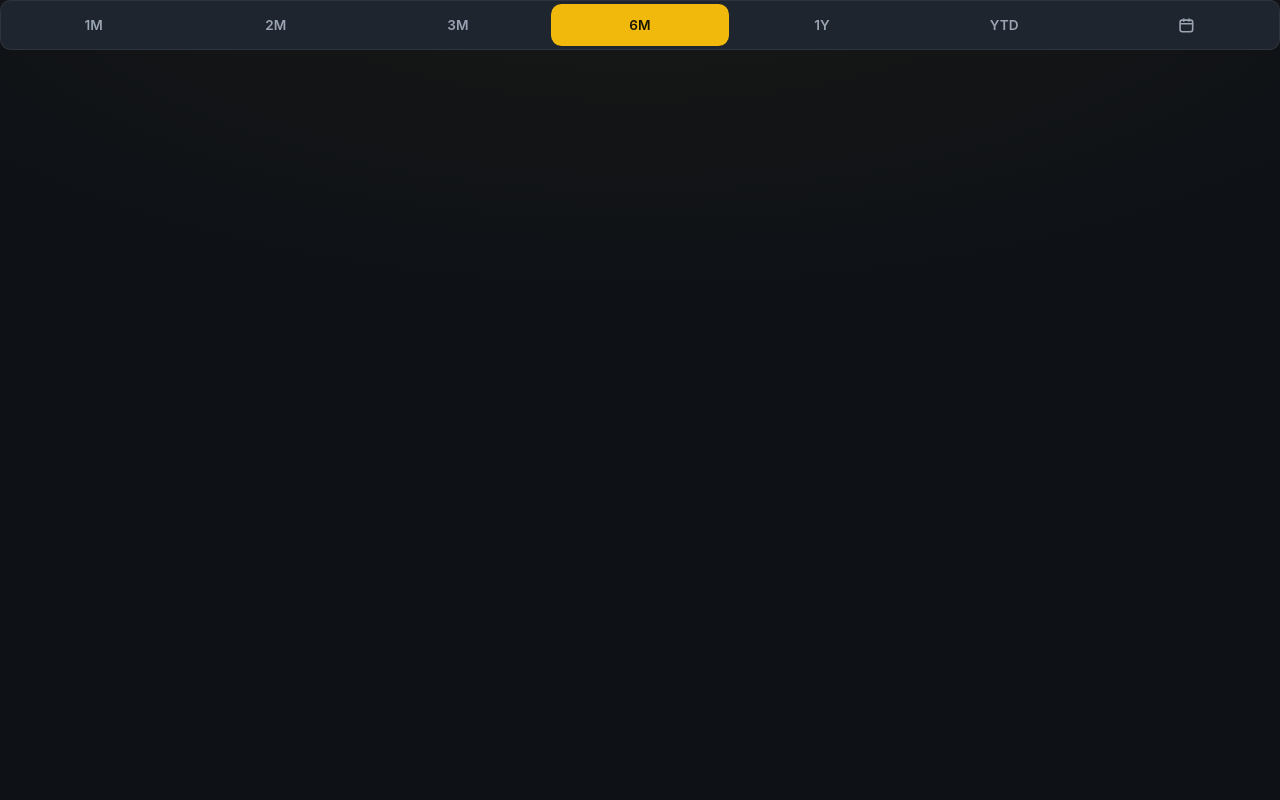
Test case: RangeControls › opens the custom range sheet and applies its months
What coordinates should you click on to do the following:
click the button named "Custom range"
I would click on:
 (1186, 25)
Its box is [1097,4,1276,46].
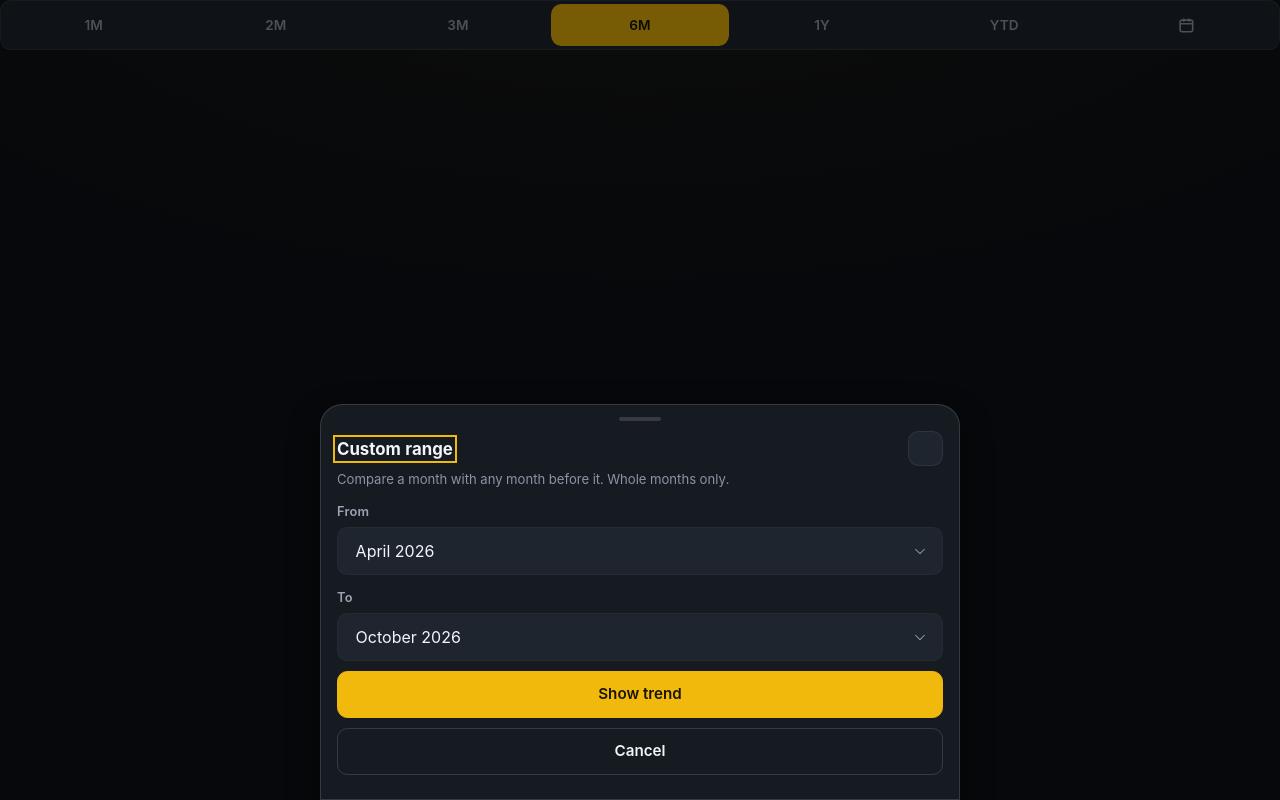
Expected: the dialog "Custom range" is shown, [320,404,960,799]
What coordinates should you click on to do the following:
click the button "Show trend"
I would click on:
 (640, 694)
Its box is [337,671,943,718].
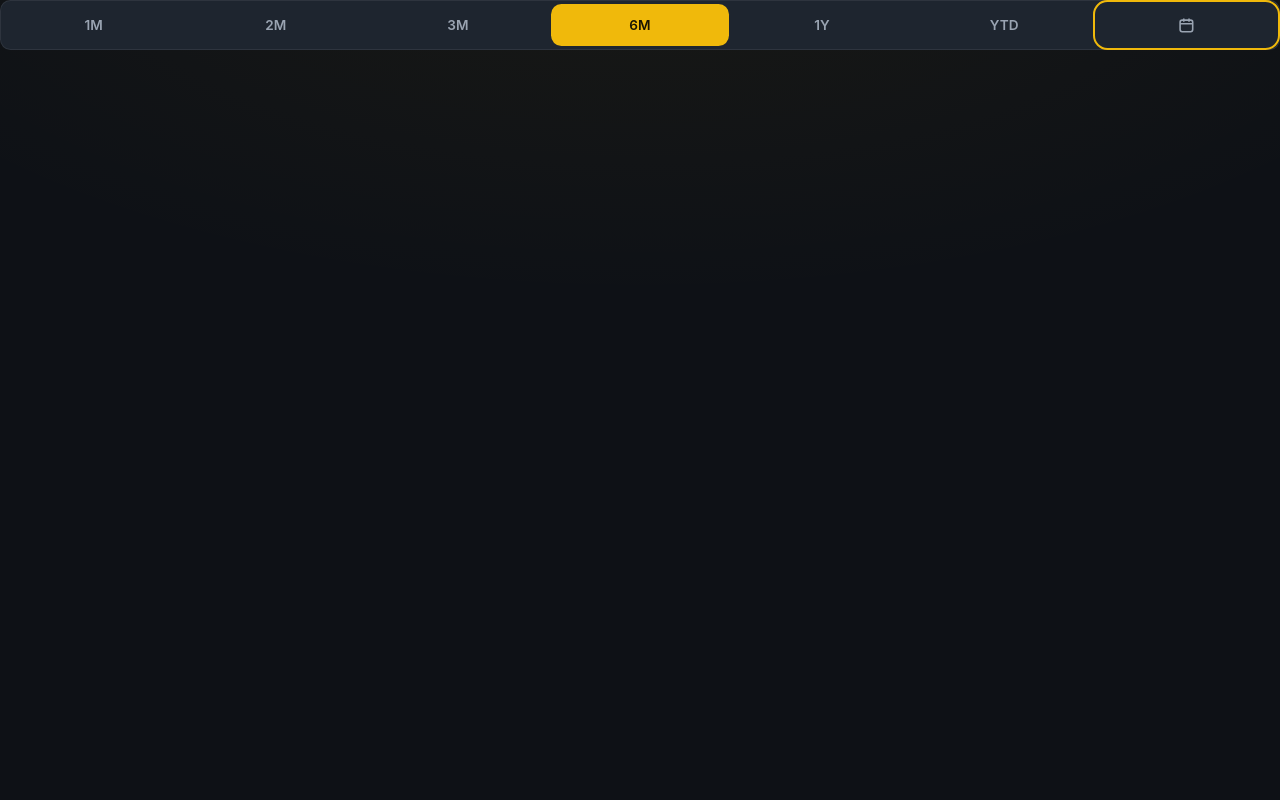
Expected: the dialog is gone
